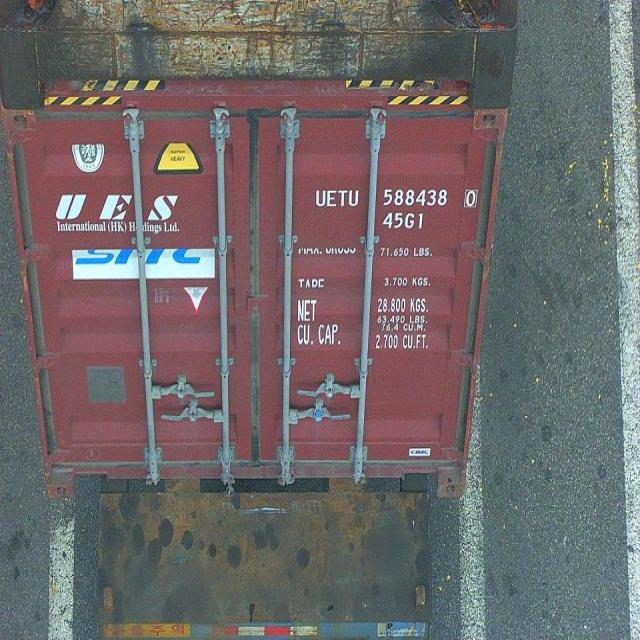ISO: (384, 207, 426, 231)
container_number: (312, 180, 478, 212)
